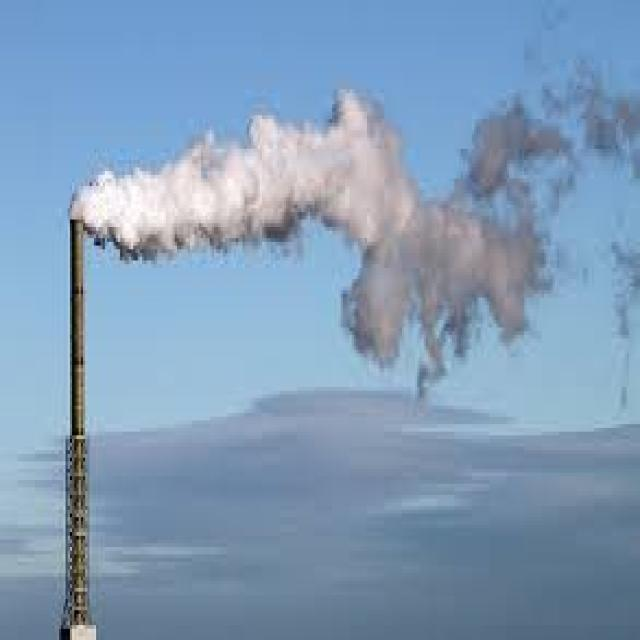Smoke: (67, 52, 640, 402)
